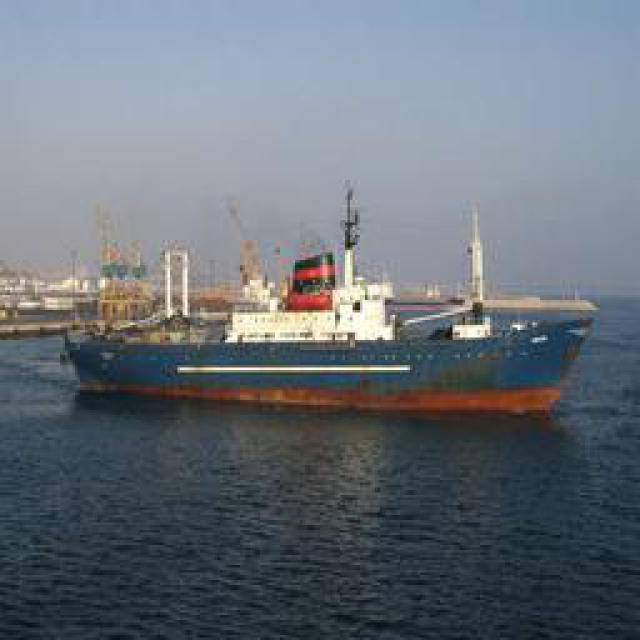Ship: (71, 201, 599, 416)
